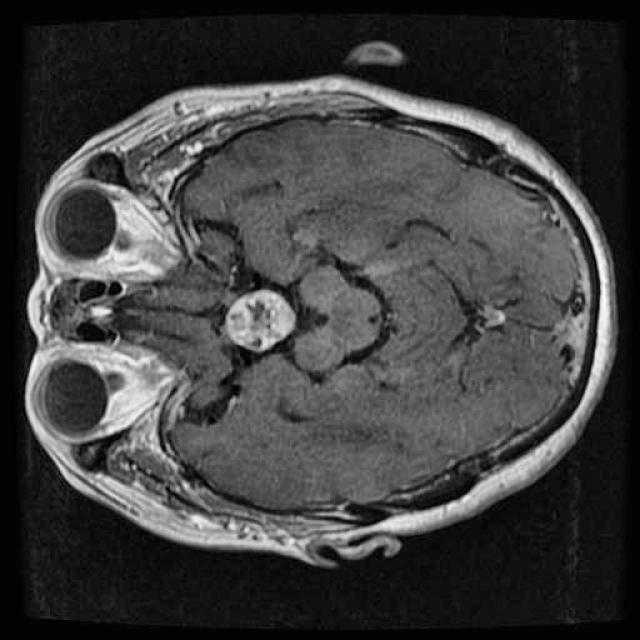Tumor: (213, 275, 308, 366)
